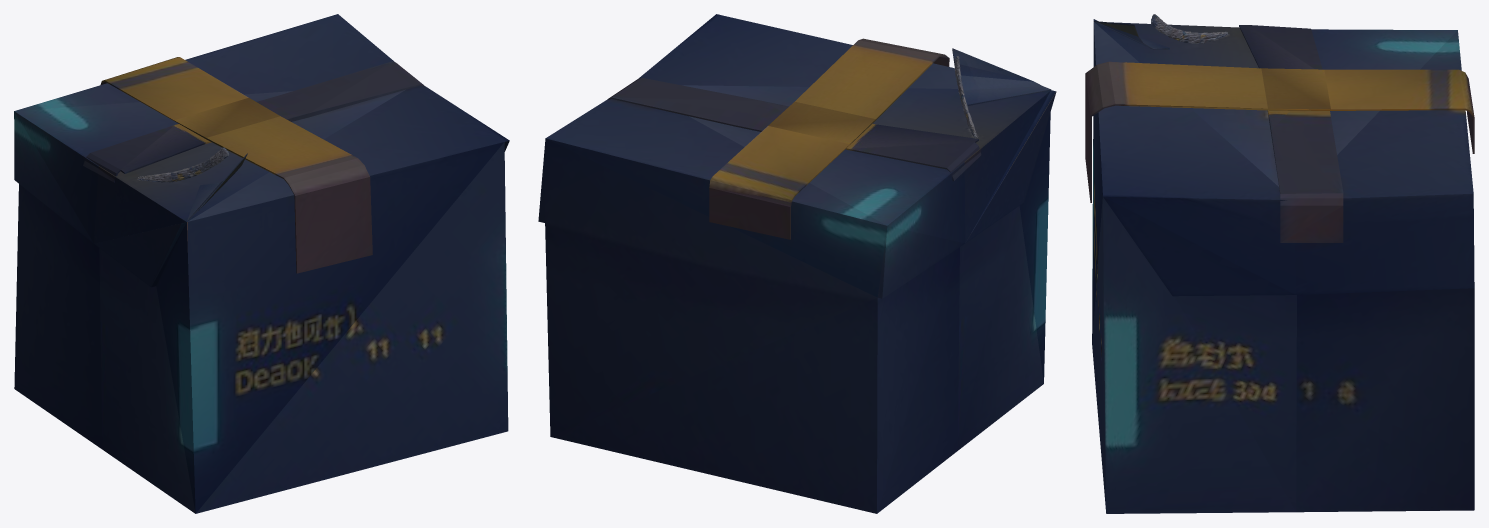
The model's file is special-delivery-package.glb.
3 views of the same model, side by side, from view 1: azimuth 30°, elevation 25°; view 2: azimuth 150°, elevation 25°; view 3: azimuth 270°, elevation 25° (orthographic). The views are drawn at different scales.
Parts seen in each view (by area): view 1: tripo_node_56193c03-819b-4d17-9d53-7f7e2357ead8; view 2: tripo_node_56193c03-819b-4d17-9d53-7f7e2357ead8; view 3: tripo_node_56193c03-819b-4d17-9d53-7f7e2357ead8.
Part boxes in pixels (<box>): tripo_node_56193c03-819b-4d17-9d53-7f7e2357ead8: <box>14,14,509,513</box>; tripo_node_56193c03-819b-4d17-9d53-7f7e2357ead8: <box>538,14,1056,513</box>; tripo_node_56193c03-819b-4d17-9d53-7f7e2357ead8: <box>1085,14,1474,513</box>.
Size of the model in its own units: 0.998 by 0.9355 by 0.916.
1 material, 1 textured.
